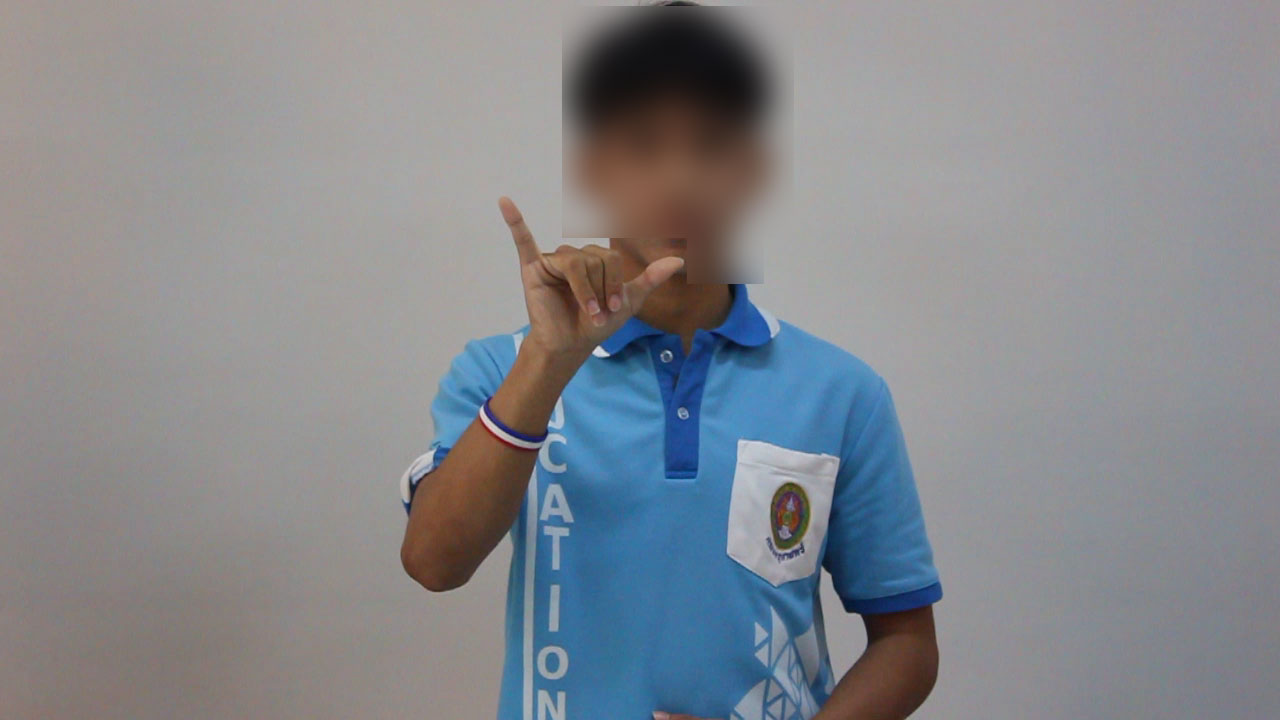yor: (478, 186, 694, 375)
